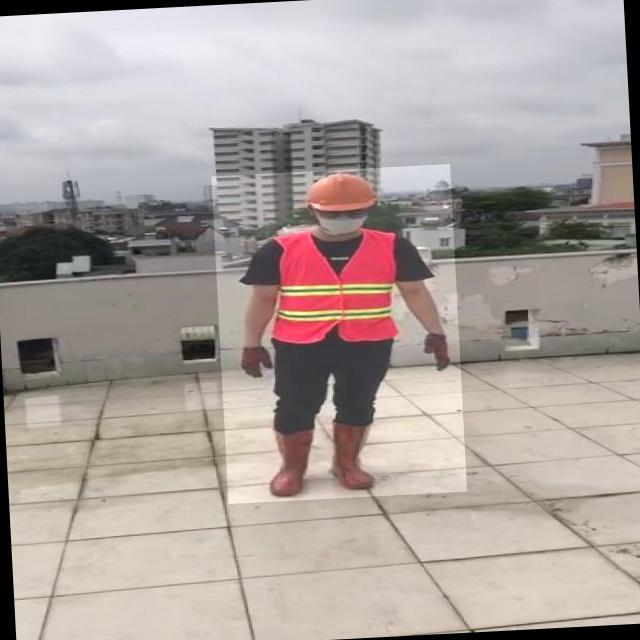Gloves: (238, 344, 272, 381), (423, 333, 453, 372)
Helmet: (301, 170, 382, 214)
Human: (212, 164, 468, 504)
Safety Boot: (264, 428, 317, 499), (329, 419, 379, 492)
Safety Vest: (268, 229, 397, 346)
